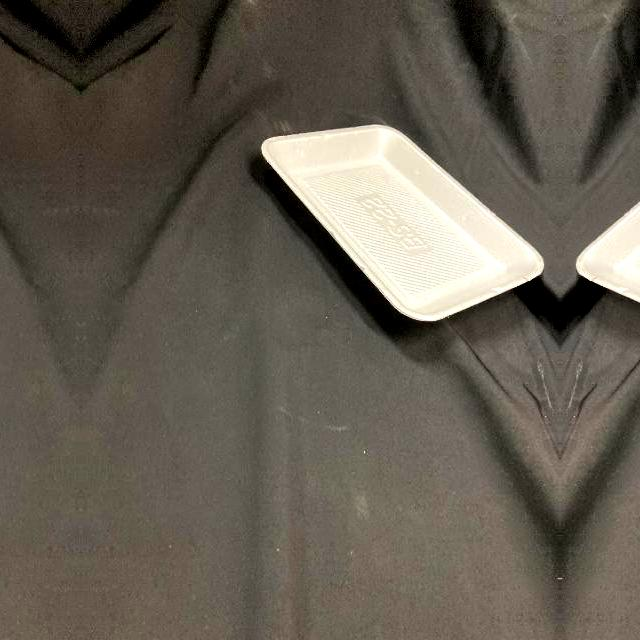Styrofoam: (259, 124, 545, 322), (261, 124, 544, 321), (573, 123, 640, 322)
